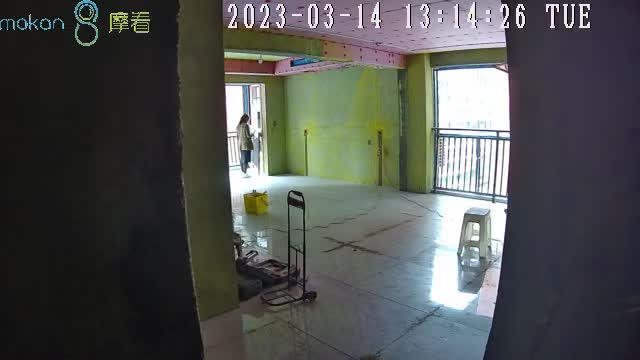people: (237, 113, 252, 177)
window: (434, 69, 509, 192), (225, 84, 264, 176)
